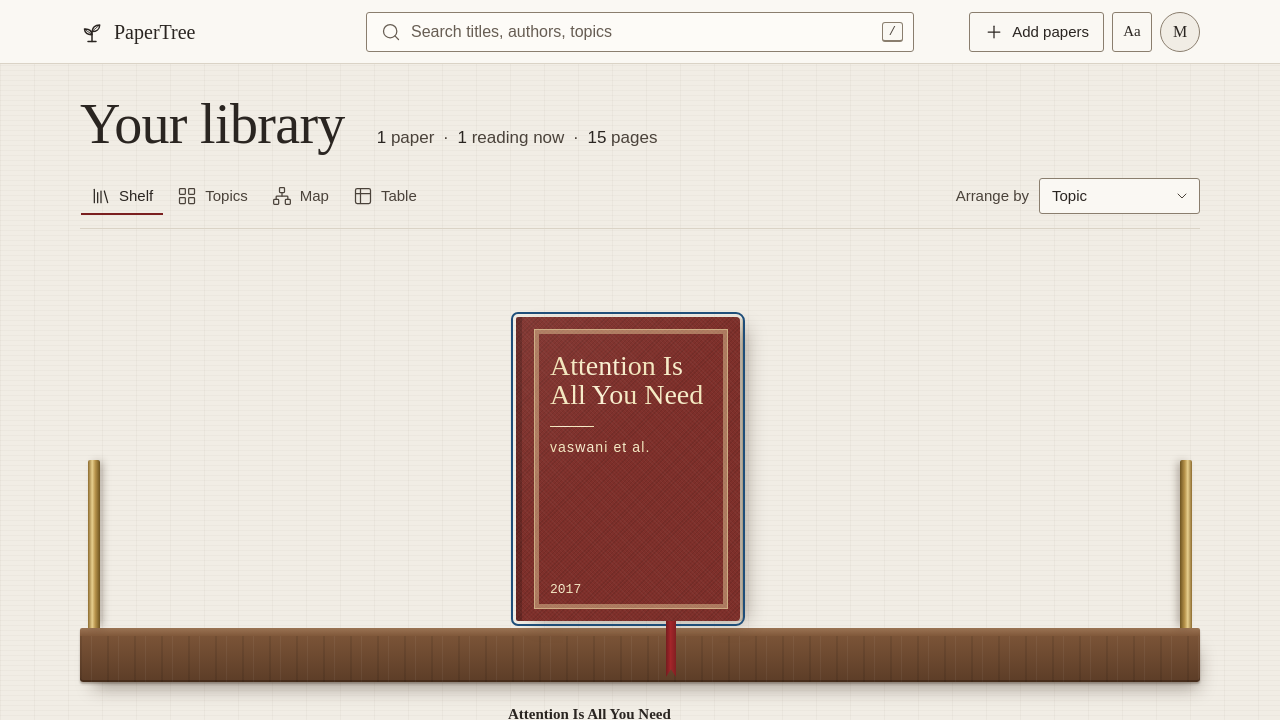
Test: the plate › offers nothing when the parser found no caption-matched Figure 1
Step 1. Press Enter in the button "Attention Is All You Need Vaswani et al. 2017", box [516,317,740,621]
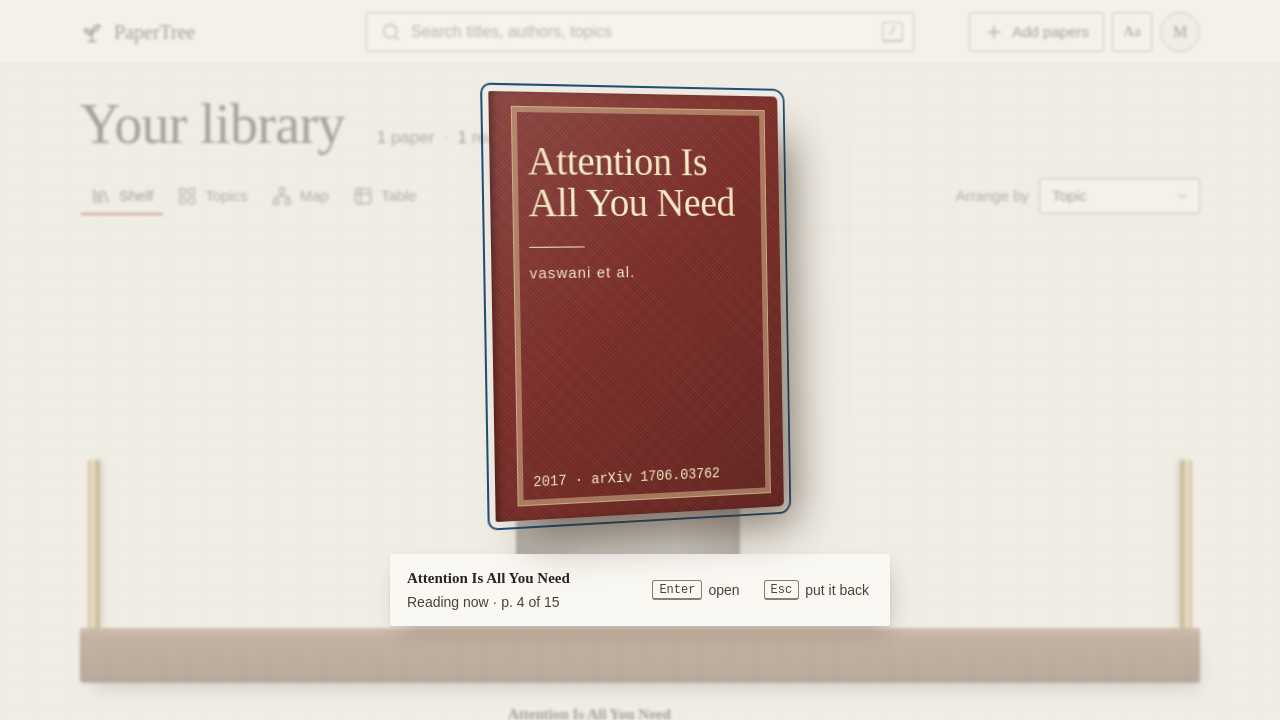
Step 2. Click the button with aria-label "Open Attention Is All You Need" → (636, 307), box [488,91,784,522]
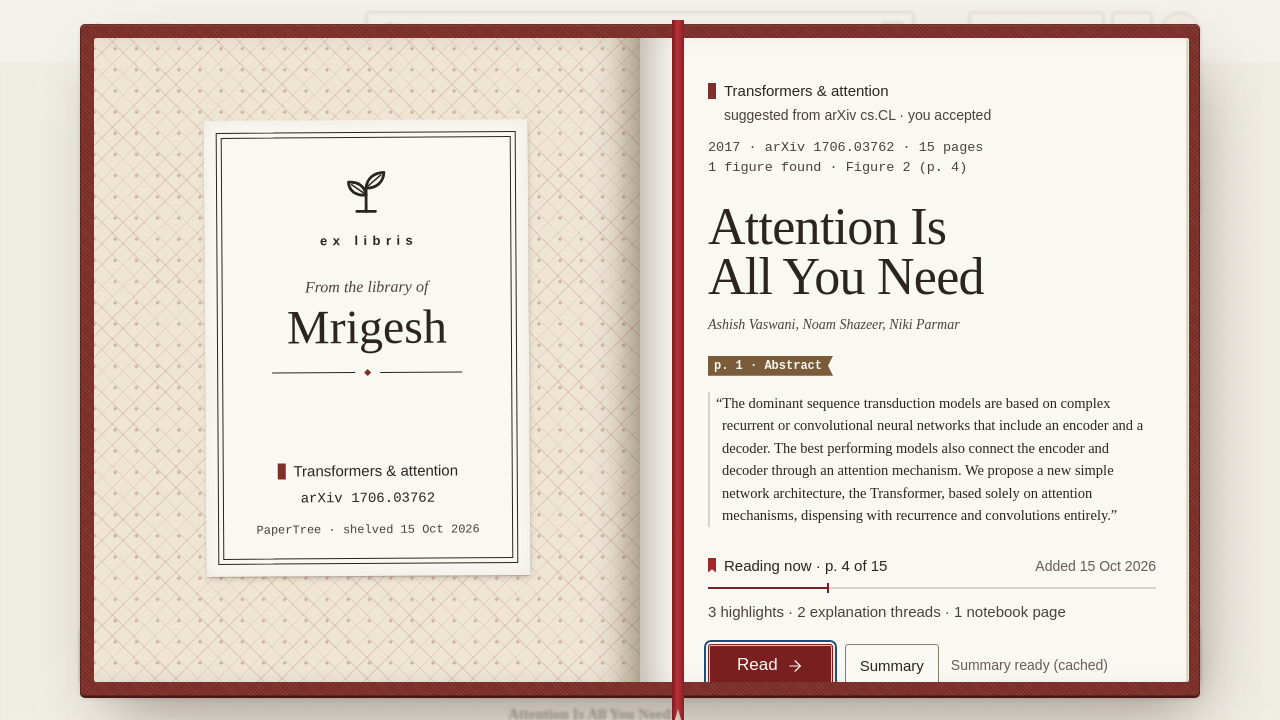
Check: the text "1 figure found · Figure 2 (p. 4)" is shown, box [708,160,967,174]
